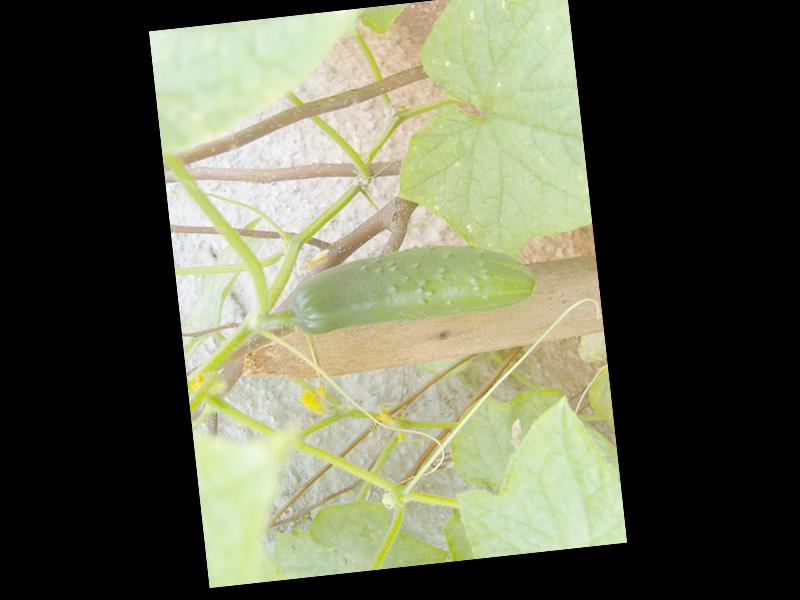Cucumber: (283, 234, 539, 338)
